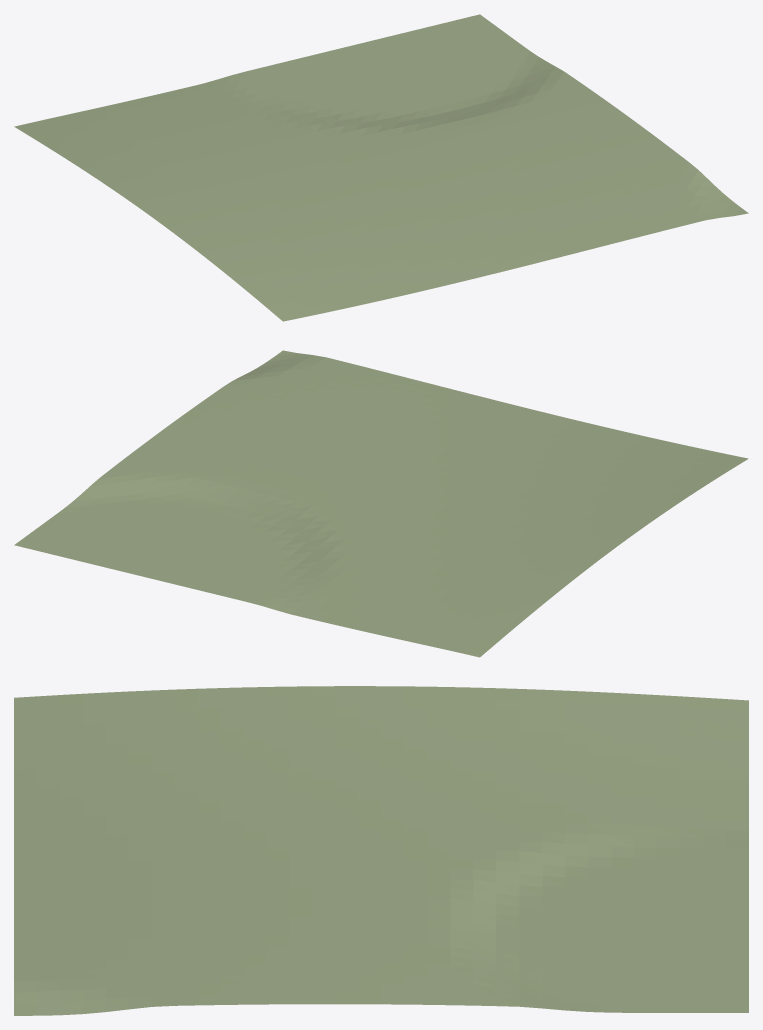
Rendered from lunar-4-4.glb.
3 renders of one model, top to bottom at view 1: azimuth 30°, elevation 25°; view 2: azimuth 150°, elevation 25°; view 3: azimuth 270°, elevation 25°, orthographic. The views are drawn at different scales.
Parts seen in each view (by area): view 1: lunar-4-4; view 2: lunar-4-4; view 3: lunar-4-4.
Part boxes in pixels (<box>): lunar-4-4: <box>14,14,748,321</box>; lunar-4-4: <box>14,350,748,657</box>; lunar-4-4: <box>14,686,748,1015</box>.
Size of the model in its own units: 128 by 3.68 by 128.
